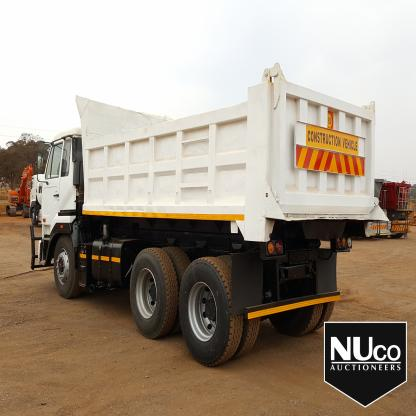dump_truck: (26, 79, 378, 364)
